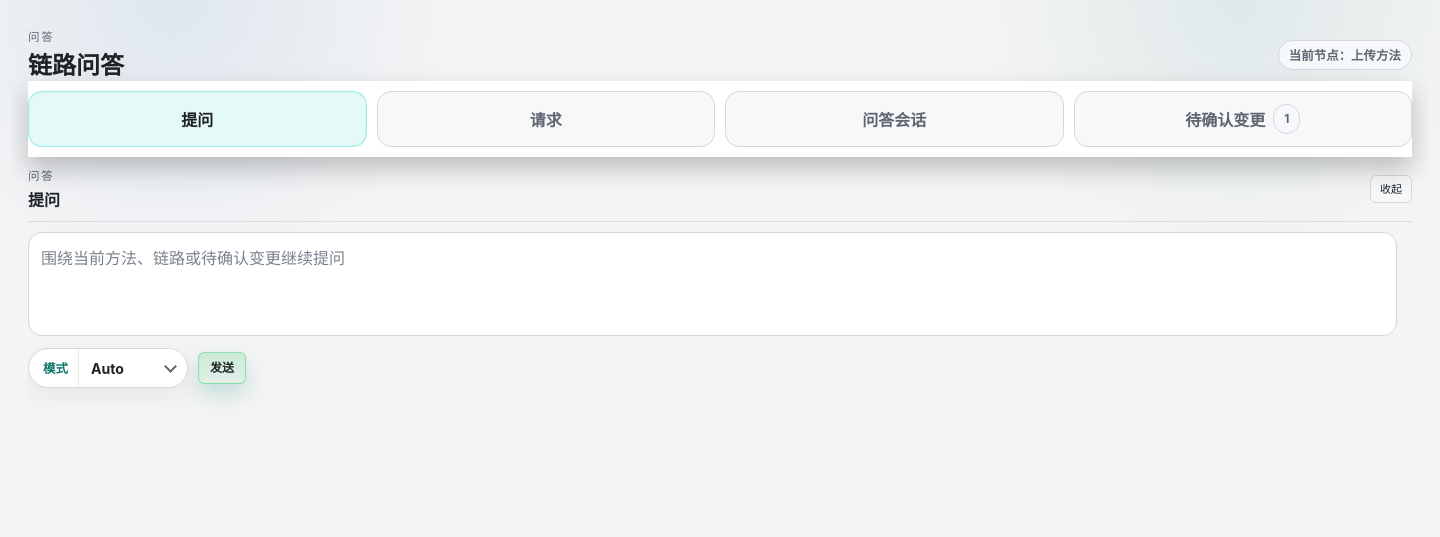
Scenario: QaTab › uses a flat qa page shell inside the stage workbench instead of nested cards
Step 1. Click the tab "问答会话" → (894, 119), box [725,91,1064,147]
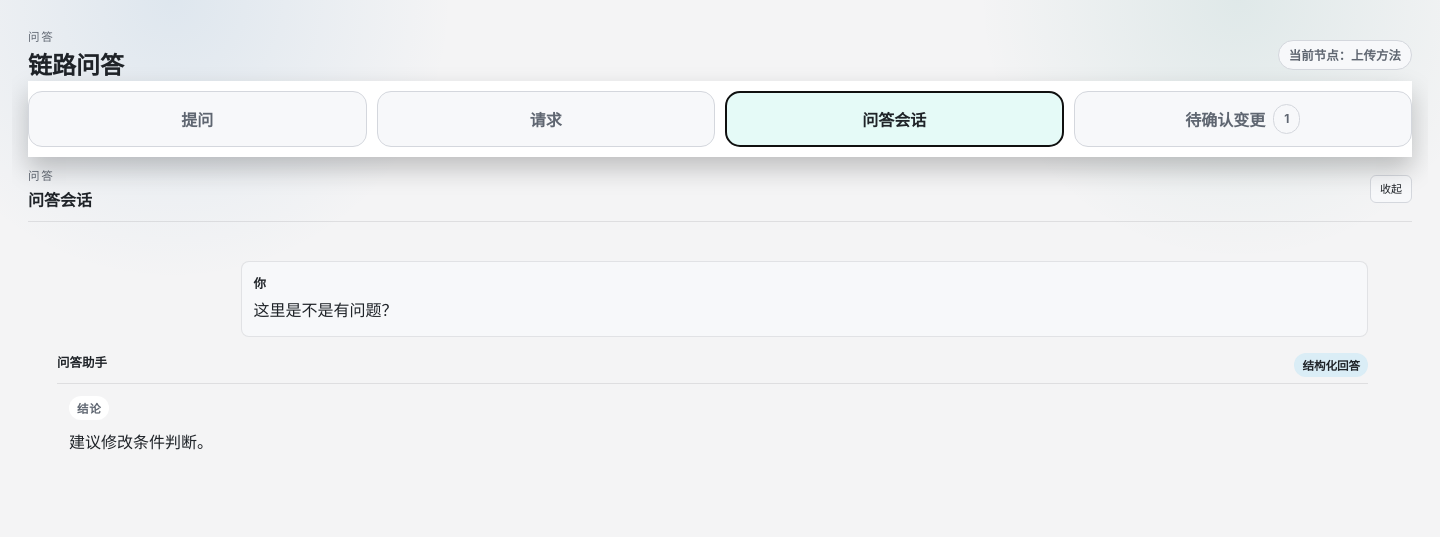
Expected: the element with class "stage-workbench-flat-block" is shown, [28,232,1397,521]
Expected: the element with class "stage-workbench-content-flow" is shown, [43,247,1382,506]
Expected: the element with class "stage-workbench-assistant-block" is shown, [57,347,1368,492]
